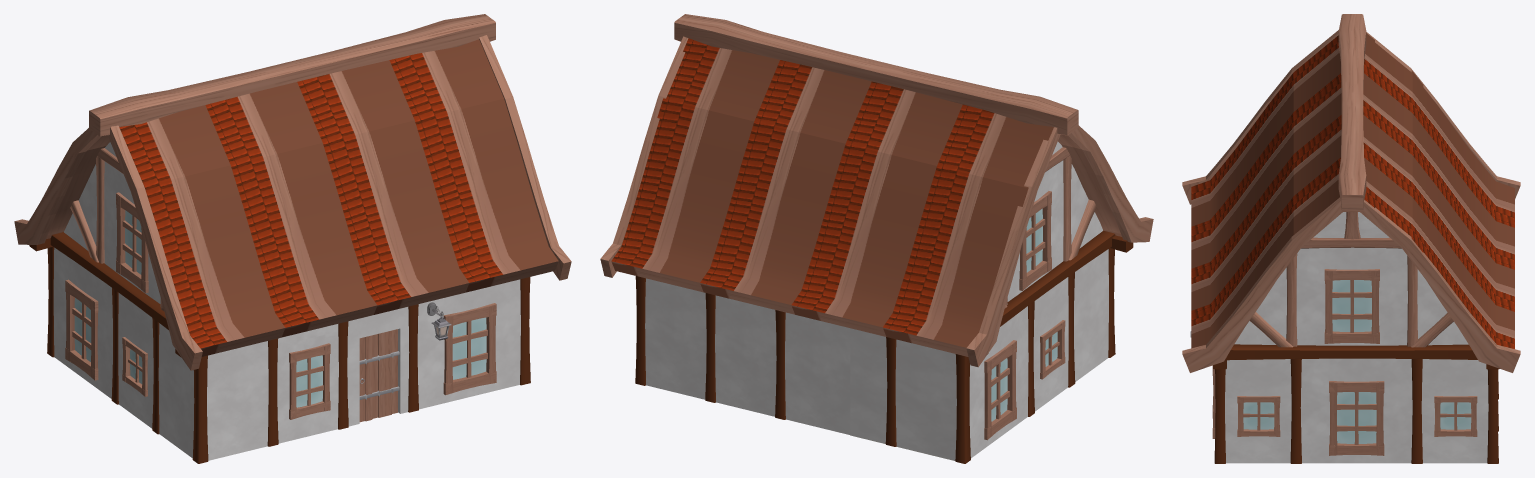
The model's file is house_02.fbx.
3 views of the same model, side by side, from view 1: azimuth 30°, elevation 25°; view 2: azimuth 150°, elevation 25°; view 3: azimuth 270°, elevation 25° (orthographic). The views are drawn at different scales.
Parts seen in each view (by area): view 1: roof_03_026, roof_03_025, roof_03_027, roof_03_024, wall_05_002, support_012, cover_03_004, wall_05_007, wall_013, wall_03_001, wall_04_001, wall_05_008 (+15 smaller); view 2: roof_03_029, roof_03_030, roof_03_028, roof_03_031, wall_03_003, support_012, wall_03_004, cover_03_004, wall_03_006, wall_03_007, wall_05_007, wall_05_008 (+15 smaller); view 3: wall_05_001, wall_05_009, cover_03_003, wall_02_001, wall_02_002, roof_03_030, roof_03_029, roof_03_025, roof_03_026, roof_03_031, roof_03_028, roof_03_024 (+13 smaller).
Part boxes in pixels (left/top/right/bottom): roof_03_026: left=297, top=60, right=469, bottom=314; roof_03_025: left=205, top=82, right=377, bottom=337; roof_03_027: left=389, top=39, right=558, bottom=292; roof_03_024: left=119, top=105, right=285, bottom=356; wall_05_002: left=417, top=279, right=520, bottom=409; support_012: left=89, top=14, right=495, bottom=136; cover_03_004: left=14, top=125, right=202, bottom=370; wall_05_007: left=53, top=247, right=112, bottom=398; wall_013: left=277, top=324, right=338, bottom=443; wall_03_001: left=207, top=341, right=268, bottom=460; wall_04_001: left=347, top=307, right=409, bottom=426; wall_05_008: left=104, top=161, right=160, bottom=303; roof_03_029: left=700, top=60, right=871, bottom=314; roof_03_030: left=791, top=81, right=962, bottom=336; roof_03_028: left=611, top=38, right=779, bottom=292; roof_03_031: left=883, top=104, right=1053, bottom=356; wall_03_003: left=850, top=328, right=956, bottom=460; support_012: left=674, top=14, right=1078, bottom=135; wall_03_004: left=785, top=312, right=850, bottom=434; cover_03_004: left=966, top=125, right=1153, bottom=367; wall_03_006: left=645, top=278, right=706, bottom=399; wall_03_007: left=715, top=295, right=776, bottom=416; wall_05_007: left=969, top=306, right=1028, bottom=458; wall_05_008: left=1007, top=160, right=1063, bottom=301; wall_05_001: left=1300, top=358, right=1412, bottom=463; wall_05_009: left=1296, top=247, right=1407, bottom=345; cover_03_003: left=1182, top=197, right=1520, bottom=372; wall_02_001: left=1225, top=359, right=1291, bottom=463; wall_02_002: left=1421, top=359, right=1488, bottom=463; roof_03_030: left=1363, top=73, right=1514, bottom=269; roof_03_029: left=1363, top=115, right=1514, bottom=311; roof_03_025: left=1191, top=73, right=1341, bottom=268; roof_03_026: left=1191, top=115, right=1341, bottom=310; roof_03_031: left=1364, top=33, right=1514, bottom=227; roof_03_028: left=1364, top=157, right=1514, bottom=348; roof_03_024: left=1191, top=35, right=1340, bottom=226.
Bounding box in the file's own units: 420 × 311 × 332.
